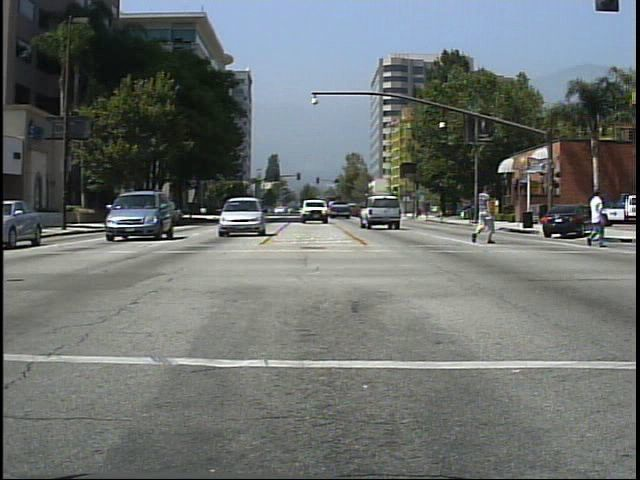person: (578, 183, 614, 254), (469, 181, 498, 249)
